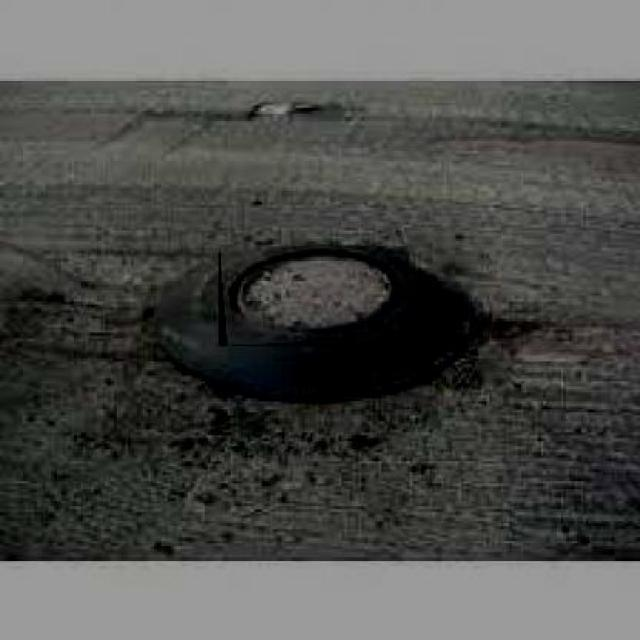Manhole: (218, 246, 410, 346)
Pothole: (212, 82, 364, 132)
